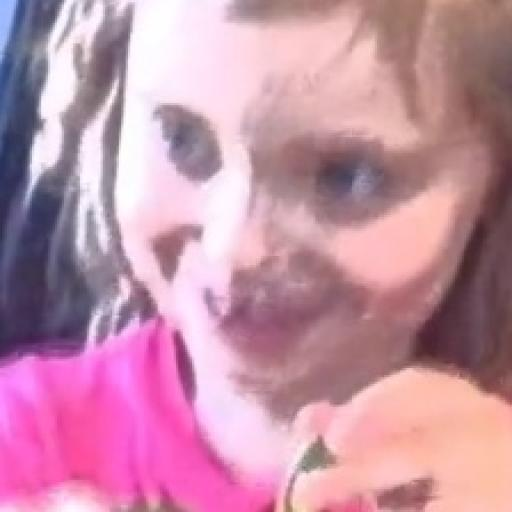Autism: (68, 0, 512, 407)
